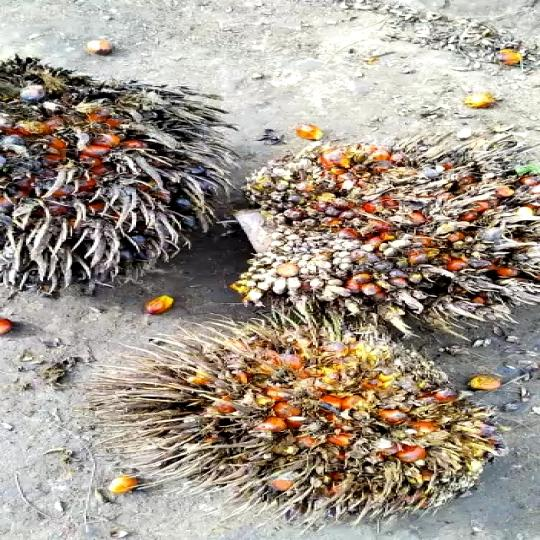terlalu masak: (125, 314, 508, 518), (226, 136, 540, 323)
